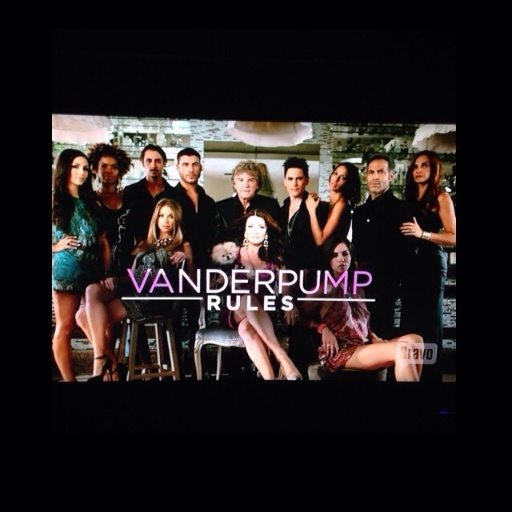hand: (55, 228, 82, 249), (320, 328, 339, 357), (399, 214, 419, 237), (284, 302, 299, 328), (168, 249, 190, 264), (99, 273, 115, 291), (304, 190, 319, 209), (371, 332, 387, 343)
